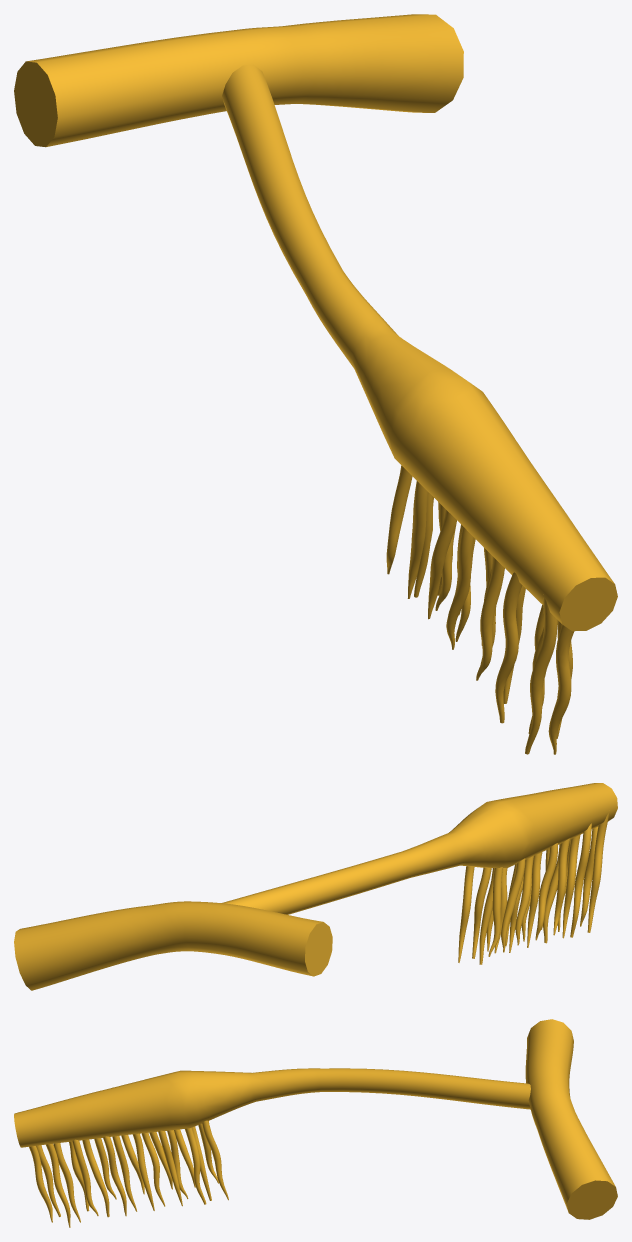
File: nervoso-olfactory-nerve-i-l.glb
3 views of the same model, one above another, from view 1: azimuth 30°, elevation 25°; view 2: azimuth 150°, elevation 25°; view 3: azimuth 270°, elevation 25° (orthographic). The views are drawn at different scales.
Visible parts, largest first — view 1: Olfactory nerve (I).l; view 2: Olfactory nerve (I).l; view 3: Olfactory nerve (I).l.
Boxes of the visible parts, box(x1,y1,x2,y2) form: Olfactory nerve (I).l: box(14, 14, 617, 754); Olfactory nerve (I).l: box(14, 783, 617, 990); Olfactory nerve (I).l: box(14, 1019, 617, 1227).
Size of the model in its own units: 0.0234 by 0.0179 by 0.0513.
